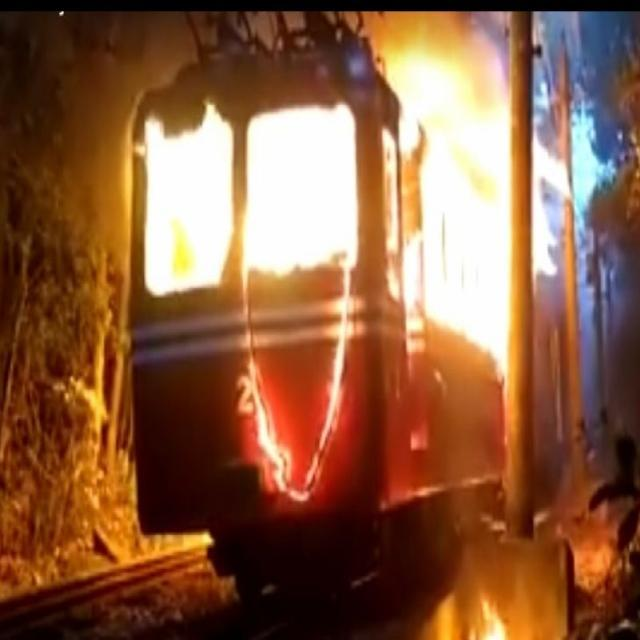Fire: (241, 116, 360, 498), (380, 116, 512, 372), (146, 120, 228, 291)
Smoke: (374, 15, 510, 100)
